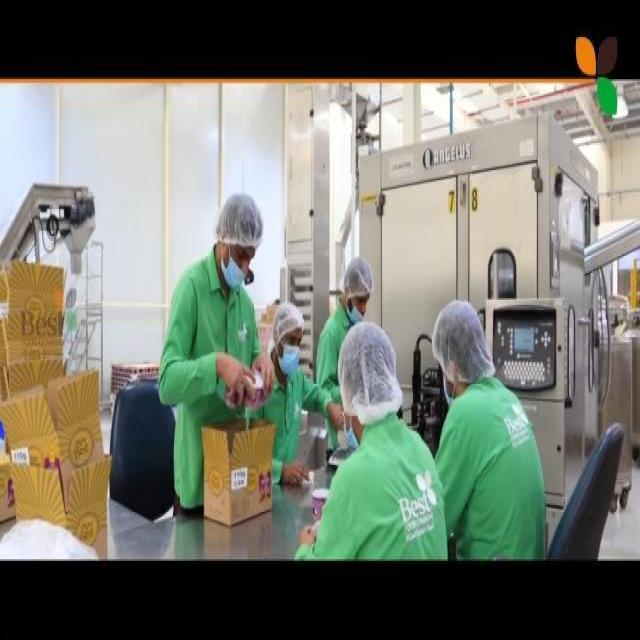bare_hand: (212, 354, 257, 413), (243, 339, 275, 409), (278, 451, 310, 504)
